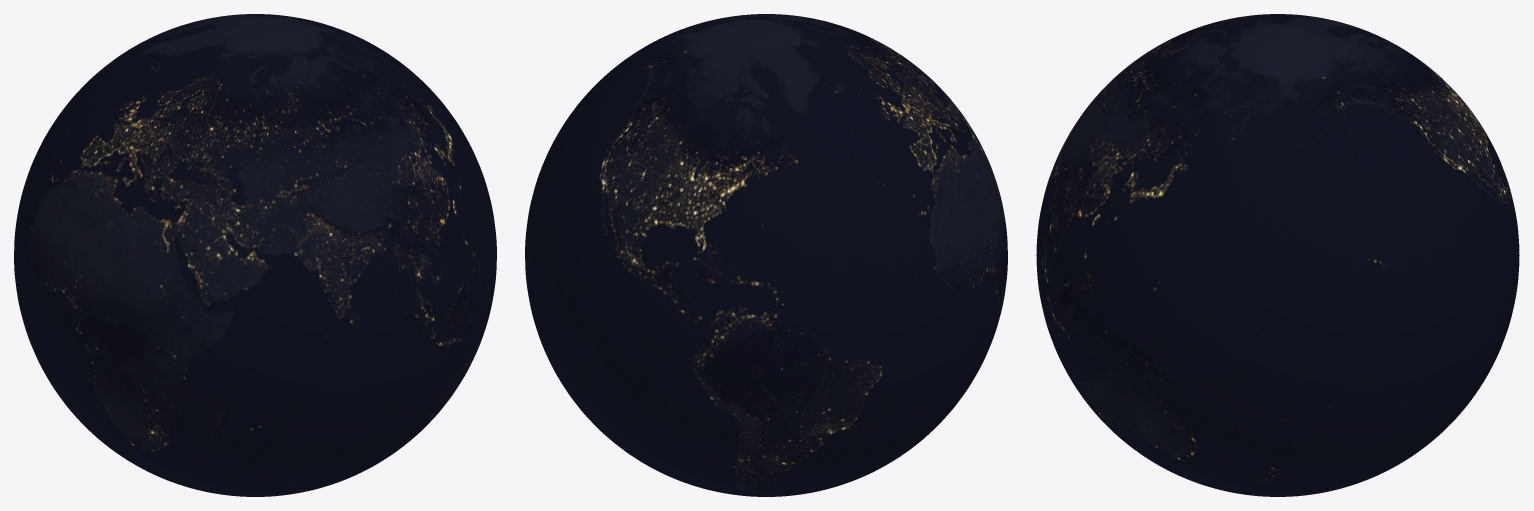
Rendered from earth.glb.
3 views of the same model, side by side, from view 1: azimuth 30°, elevation 25°; view 2: azimuth 150°, elevation 25°; view 3: azimuth 270°, elevation 25° (orthographic).
Parts seen in each view (by area): view 1: pSphere1; view 2: pSphere1; view 3: pSphere1.
Part boxes in pixels (left/top/right/bottom): pSphere1: left=14, top=14, right=496, bottom=496; pSphere1: left=525, top=14, right=1007, bottom=496; pSphere1: left=1036, top=14, right=1519, bottom=496.
Bounding box in the file's own units: 4419 × 4419 × 4419.
Materials: 1 (1 with a texture image).
